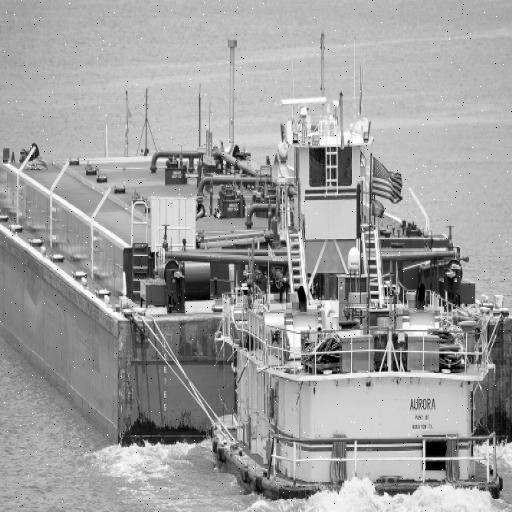tugboat: (207, 92, 509, 512)
